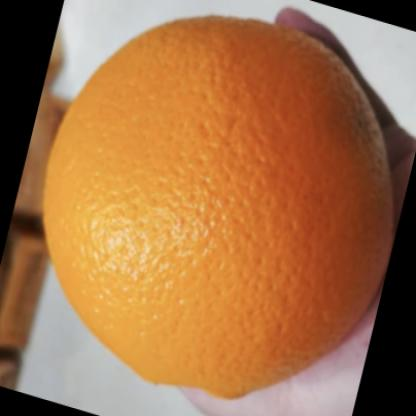fresh: (42, 16, 402, 401)
